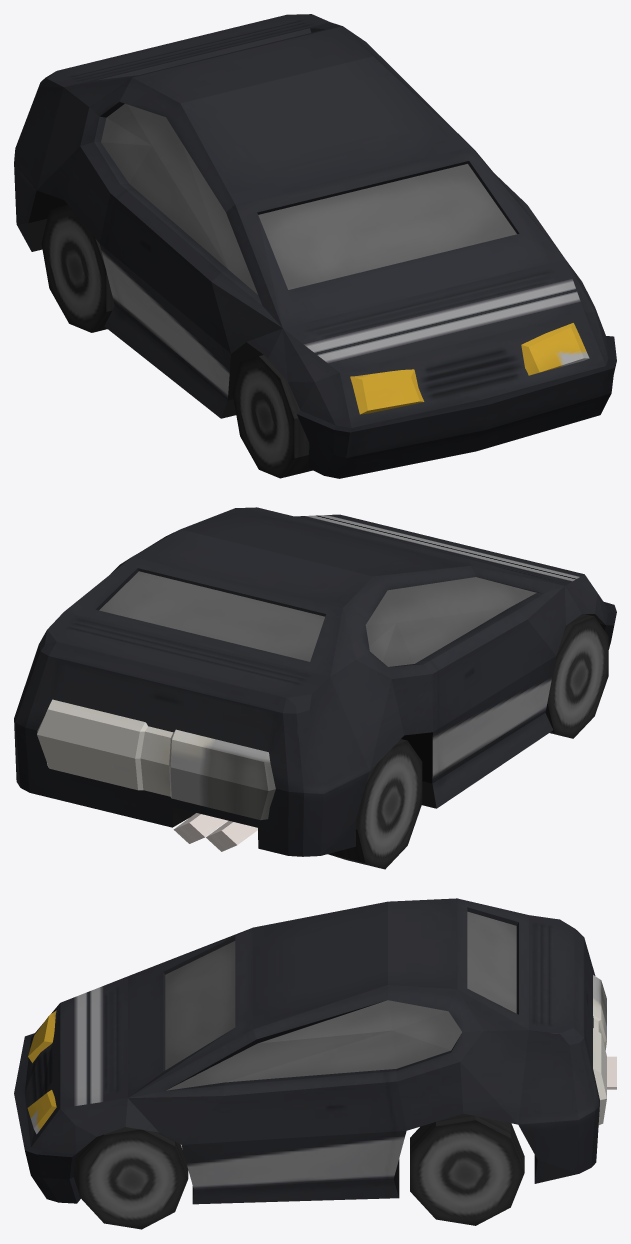
Rendered from car_black.FBX.
The picture shows the model from 3 angles, top to bottom: view 1: azimuth 30°, elevation 25°; view 2: azimuth 150°, elevation 25°; view 3: azimuth 270°, elevation 25°; orthographic projection. The views are drawn at different scales.
Visible parts, largest first — view 1: sports car; view 2: sports car; view 3: sports car.
Part boxes in pixels (bbox=[...]): sports car: bbox=[14, 14, 616, 478]; sports car: bbox=[14, 507, 616, 869]; sports car: bbox=[14, 898, 616, 1229].
Bounding box in the file's own units: 118 × 82.51 × 204.
